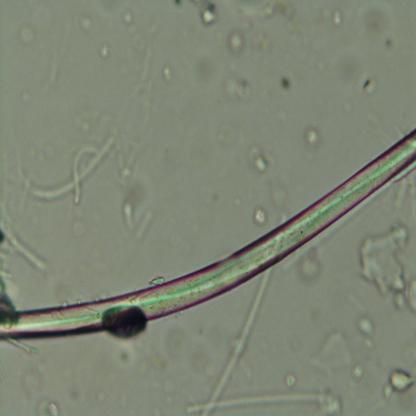Background material: (355, 224, 416, 314), (149, 325, 199, 402), (230, 0, 306, 40), (309, 326, 362, 378), (356, 4, 401, 54), (10, 0, 49, 48), (115, 137, 146, 191), (383, 367, 415, 401), (296, 248, 326, 283), (247, 142, 277, 176), (13, 368, 46, 398), (219, 77, 252, 104), (267, 187, 295, 216), (320, 4, 346, 34), (70, 13, 100, 36), (358, 312, 376, 350), (300, 119, 320, 153), (113, 346, 137, 371), (197, 0, 219, 27), (36, 396, 65, 416), (250, 202, 268, 231), (122, 7, 138, 39), (360, 72, 378, 98), (157, 60, 174, 86), (230, 32, 248, 55), (275, 69, 293, 92), (96, 41, 113, 60), (283, 368, 297, 389), (18, 90, 32, 103), (171, 0, 183, 10)
Glass filter fibre: (200, 272, 274, 414), (17, 135, 118, 206), (0, 219, 51, 274), (183, 393, 323, 413), (118, 204, 154, 237)
Microfibre: (0, 128, 416, 341)
